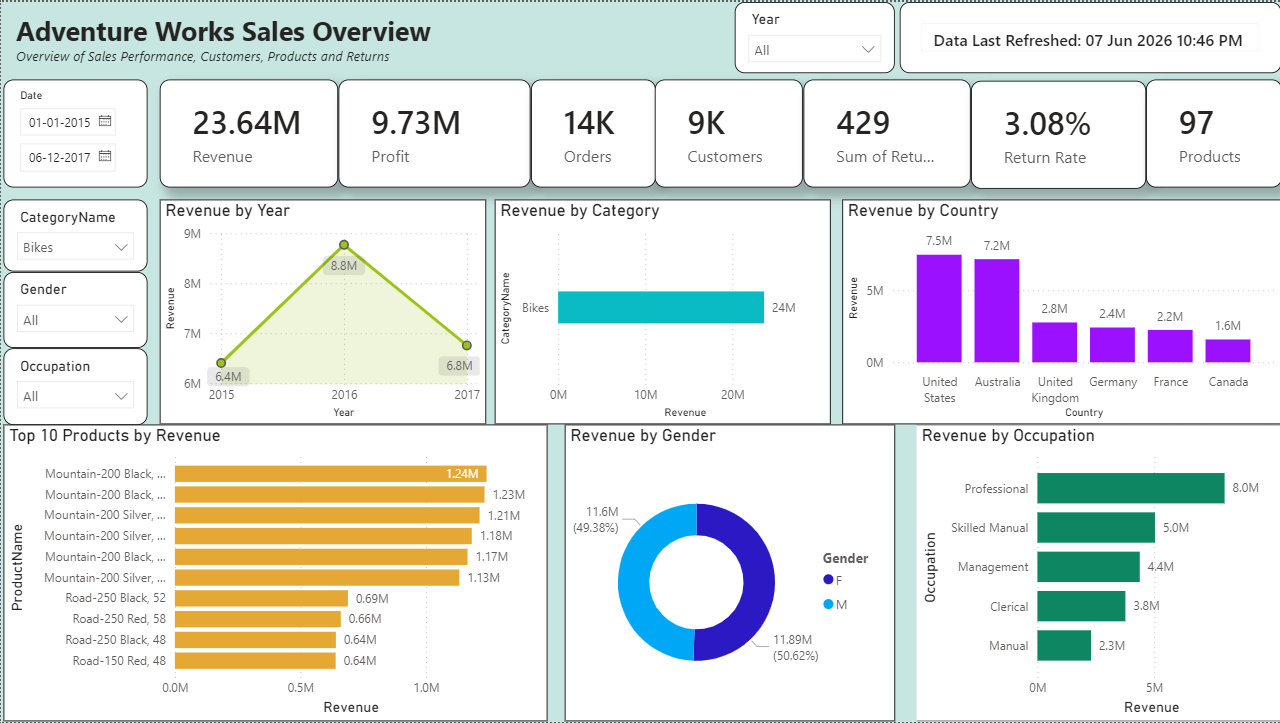

Layout of this report page (visuals, bound fields, positions):
{"tool":"powerbi","page":{"name":"Page 1","canvas":[1280,720],"ordinal":0},"visuals":[{"type":"cardVisual","fields":{"Data":["Sales.Total Revenue"]},"box":[159,77,178.5,107.6],"z":0},{"type":"cardVisual","fields":{"Data":["Sales.Total Profit"]},"box":[337.5,77,192,107.6],"z":1000},{"type":"cardVisual","fields":{"Data":["Sales.Total Orders"]},"box":[529.5,77,124.7,107.6],"z":2000},{"type":"cardVisual","fields":{"Data":["Customers.Total Customers"]},"box":[654.2,77,148,107.6],"z":3000},{"type":"cardVisual","fields":{"Data":["Sum(Returns.ReturnQuantity)"]},"box":[802.2,77,167.5,107.6],"z":4000},{"type":"cardVisual","fields":{"Data":["Returns.Return Rate"]},"box":[969.7,78.3,174.9,107.6],"z":5000},{"type":"cardVisual","fields":{"Data":["Products.Total Products"]},"box":[1144.6,77,135.7,107.6],"z":6000},{"type":"barChart","title":"Revenue by Category","fields":{"Category":["Categories.CategoryName"],"Y":["Sales.Total Revenue"]},"box":[494,198.1,336.3,225],"z":7000},{"type":"barChart","title":"Top 10 Products by Revenue","fields":{"Category":["Products.ProductName"],"Y":["Sales.Total Revenue"]},"box":[2.4,423.1,544.2,297.1],"z":8000},{"type":"donutChart","fields":{"Category":["Customers.Gender"],"Y":["Sales.Total Revenue"]},"box":[563.7,423.1,330.2,297.1],"z":9000},{"type":"barChart","fields":{"Y":["Sales.Total Revenue"],"Category":["Customers.Occupation"]},"box":[914.7,423.1,365.6,297.1],"z":10000},{"type":"lineChart","fields":{"Y":["Sales.Total Revenue"],"Category":["Calendar.Year"]},"box":[159,198.1,326.5,225],"z":11000},{"type":"slicer","fields":{"Values":["Calendar.Year"]},"box":[733.5,0,160,71.2],"z":12000},{"type":"slicer","fields":{"Values":["Categories.CategoryName"]},"box":[2.4,198.1,144.3,72.1],"z":13000},{"type":"slicer","fields":{"Values":["Customers.Gender"]},"box":[2.4,270.2,144.3,75.8],"z":14000},{"type":"slicer","fields":{"Values":["Customers.Occupation"]},"box":[2.4,346.1,144.3,77],"z":15000},{"type":"columnChart","title":"Revenue by Country","fields":{"Category":["Territories.Country"],"Y":["Sales.Total Revenue"]},"box":[841.3,198.1,439,225],"z":16000},{"type":"slicer","fields":{"Values":["Calendar.Date"]},"box":[2.4,77,144.3,107.6],"z":17000},{"type":"cardVisual","fields":{"Data":["Calendar.Last Refreshed"]},"box":[898.2,0,381.8,71.2],"z":18000},{"type":"textbox","box":[9.6,5.5,441.9,71.4],"z":19000}]}

Visuals, with their boxes in screenshot pixels (x1, y1, x2, y2), scaled from the page's 1280x720 canvas onto the 1280x723 screenshot:
cardVisual - Sales.Total Revenue: [x1=159, y1=77, x2=338, y2=185]
cardVisual - Sales.Total Profit: [x1=338, y1=77, x2=530, y2=185]
cardVisual - Sales.Total Orders: [x1=530, y1=77, x2=654, y2=185]
cardVisual - Customers.Total Customers: [x1=654, y1=77, x2=802, y2=185]
cardVisual - Sum(Returns.ReturnQuantity): [x1=802, y1=77, x2=970, y2=185]
cardVisual - Returns.Return Rate: [x1=970, y1=79, x2=1145, y2=187]
cardVisual - Products.Total Products: [x1=1145, y1=77, x2=1279, y2=185]
"Revenue by Category" barChart: [x1=494, y1=199, x2=830, y2=425]
"Top 10 Products by Revenue" barChart: [x1=2, y1=425, x2=547, y2=722]
donutChart - Customers.Gender x Sales.Total Revenue: [x1=564, y1=425, x2=894, y2=722]
barChart - Sales.Total Revenue x Customers.Occupation: [x1=915, y1=425, x2=1279, y2=722]
lineChart - Sales.Total Revenue x Calendar.Year: [x1=159, y1=199, x2=486, y2=425]
slicer - Calendar.Year: [x1=734, y1=0, x2=894, y2=71]
slicer - Categories.CategoryName: [x1=2, y1=199, x2=147, y2=271]
slicer - Customers.Gender: [x1=2, y1=271, x2=147, y2=347]
slicer - Customers.Occupation: [x1=2, y1=348, x2=147, y2=425]
"Revenue by Country" columnChart: [x1=841, y1=199, x2=1279, y2=425]
slicer - Calendar.Date: [x1=2, y1=77, x2=147, y2=185]
cardVisual - Calendar.Last Refreshed: [x1=898, y1=0, x2=1279, y2=71]
textbox: [x1=10, y1=6, x2=452, y2=77]
